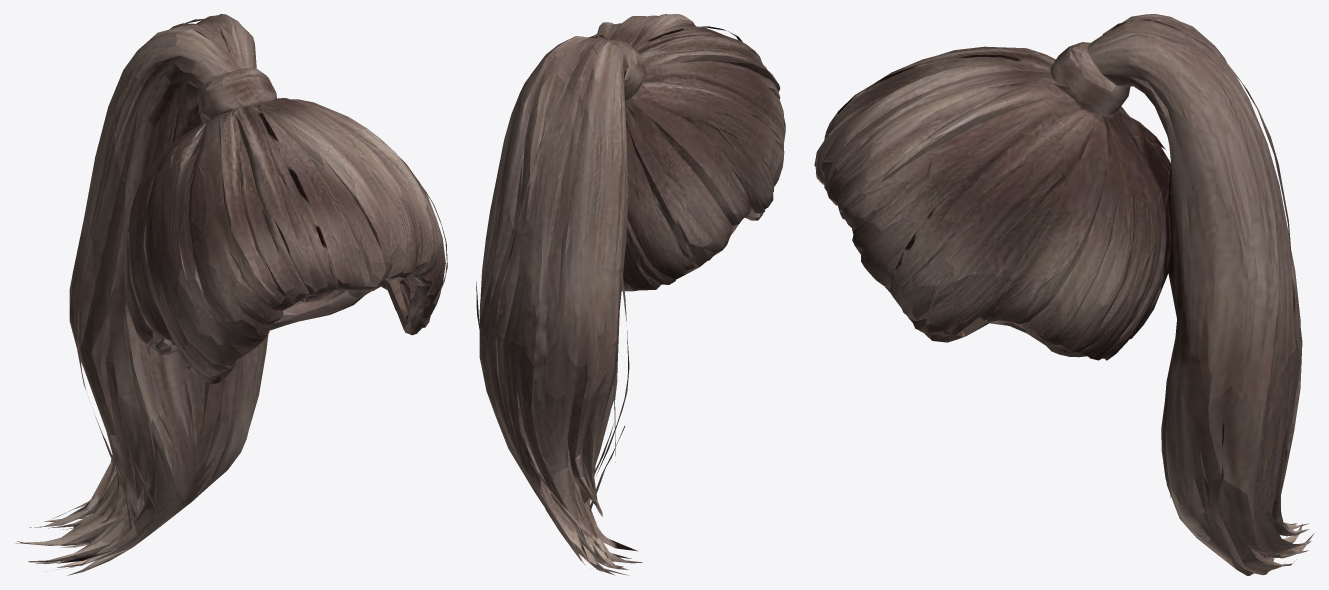
Rendered from acc_hair3.glb.
3 renders of one model, left to right at view 1: azimuth 30°, elevation 25°; view 2: azimuth 150°, elevation 25°; view 3: azimuth 270°, elevation 25°, orthographic. The views are drawn at different scales.
Bounding box in the file's own units: 0.9005 × 1.9 × 1.46.
1 material, 1 textured.
